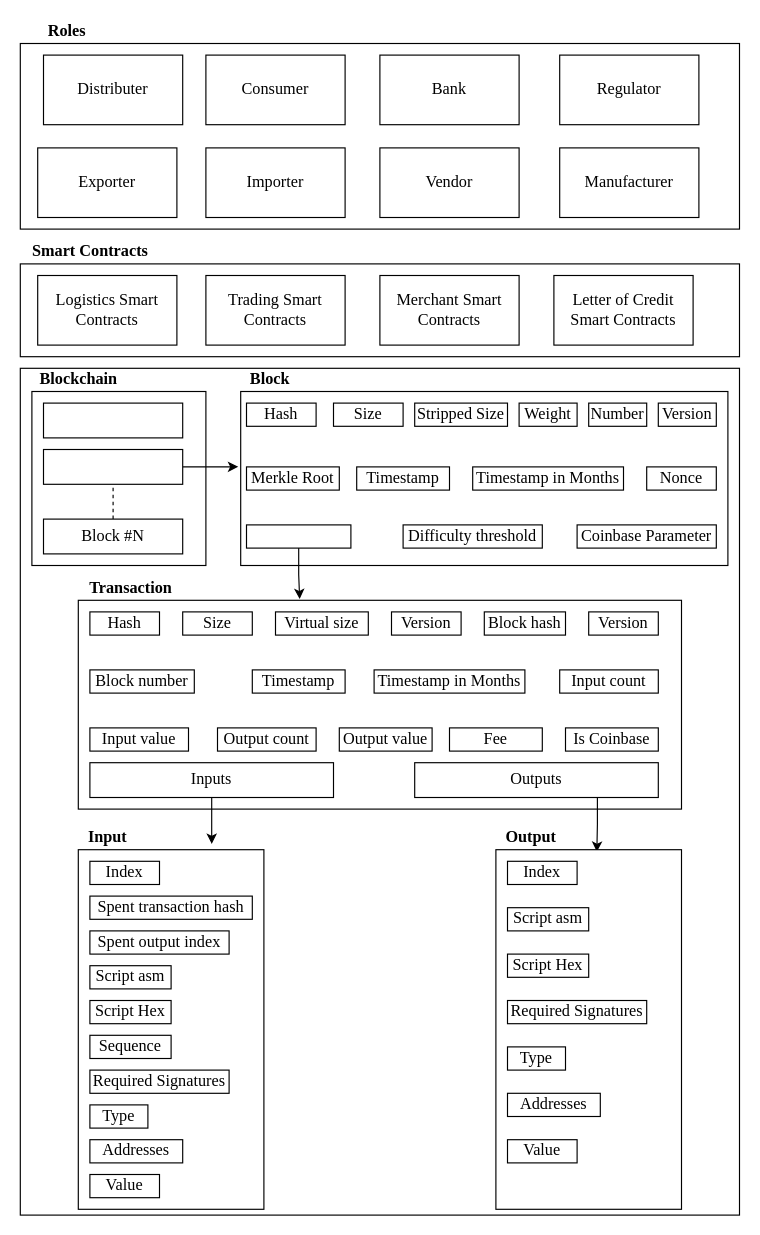
Image size: 760x1235. Some labels were removed from this diagram. Each missing label, with the centre of its shape:
"Block #1" belongs at point (112, 420).
"Block #2" belongs at point (112, 466).
"Transactions" belongs at point (298, 536).
